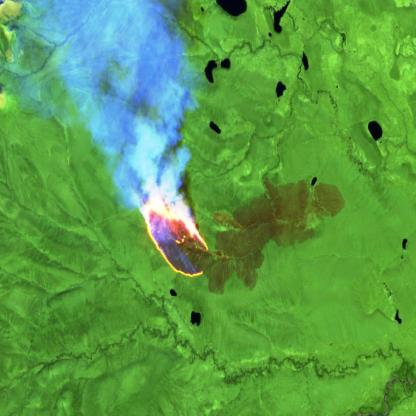fire: (136, 185, 210, 283)
